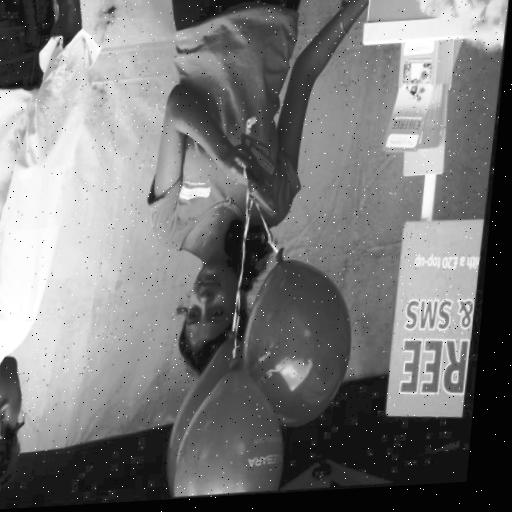balloon: (237, 253, 360, 428), (176, 365, 294, 497), (166, 340, 246, 493)
